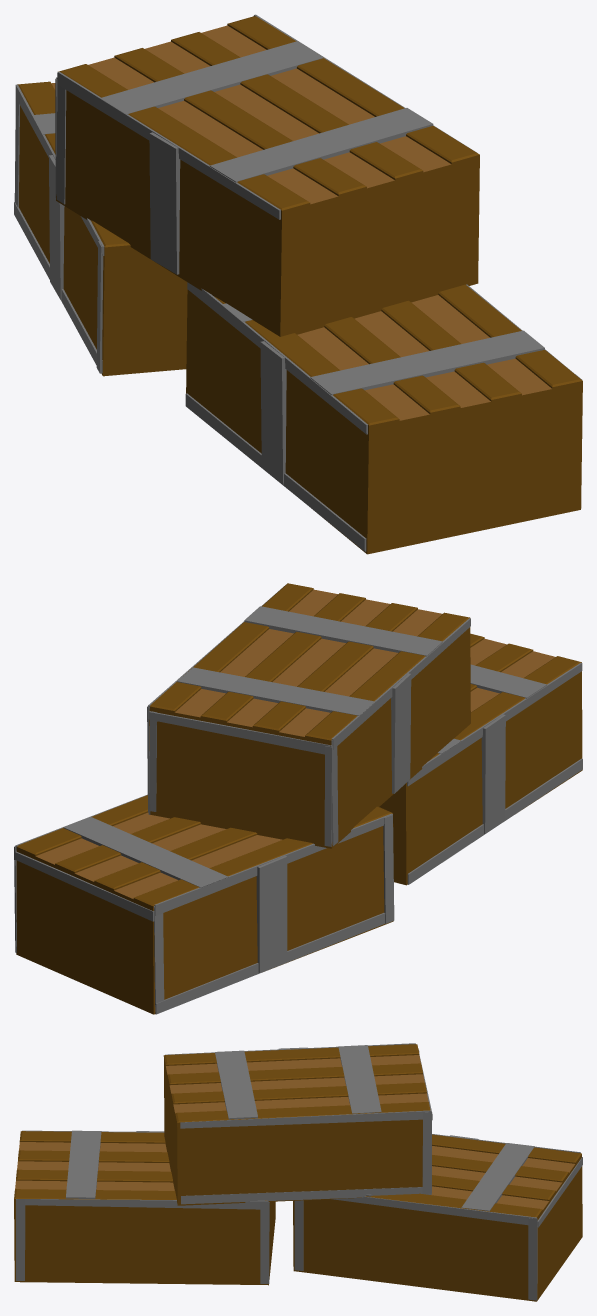
File: woodboxset.glb
The picture shows the model from 3 angles, top to bottom: view 1: azimuth 30°, elevation 25°; view 2: azimuth 150°, elevation 25°; view 3: azimuth 270°, elevation 25°; orthographic projection. The views are drawn at different scales.
Parts seen in each view (by area): view 1: Cube.606, Cube.569, Cube.568, Cube.571, Cube.604, Cube.605, Cube.588, Cube.587, Cube.603, Cube.573, Cube.572, Cube.550 (+4 smaller); view 2: Cube.606, Cube.568, Cube.569, Cube.604, Cube.605, Cube.567, Cube.550, Cube.587, Cube.564, Cube.588, Cube.565, Cube.573 (+10 smaller); view 3: Cube.606, Cube.568, Cube.569, Cube.567, Cube.604, Cube.597, Cube.605, Cube.571, Cube.596, Cube.579, Cube.558, Cube.561 (+5 smaller).
Part boxes in pixels (x1,y1,x2,y2): Cube.606: (56,16,479,336); Cube.569: (186,284,582,554); Cube.568: (17,81,187,376); Cube.571: (310,330,544,395); Cube.604: (209,108,433,182); Cube.605: (100,41,322,114); Cube.588: (149,132,180,274); Cube.587: (260,341,286,484); Cube.603: (57,71,280,219); Cube.573: (185,393,366,551); Cube.572: (187,282,367,434); Cube.550: (49,155,64,300); Cube.606: (149,583,470,848); Cube.568: (16,795,393,1014); Cube.569: (379,633,582,885); Cube.604: (244,606,442,656); Cube.605: (177,667,375,715); Cube.567: (63,817,228,887); Cube.550: (256,855,287,972); Cube.587: (481,714,505,833); Cube.564: (155,913,385,1014); Cube.588: (391,673,411,793); Cube.565: (154,813,392,915); Cube.573: (407,758,582,884); Cube.606: (163,1044,430,1205); Cube.568: (293,1134,582,1301); Cube.569: (14,1131,275,1285); Cube.567: (461,1143,534,1211); Cube.604: (215,1050,257,1119); Cube.597: (181,1187,431,1204); Cube.605: (338,1045,381,1113); Cube.571: (65,1130,101,1198); Cube.596: (180,1110,430,1128); Cube.579: (17,1199,268,1209); Cube.558: (331,1196,536,1225); Cube.561: (528,1218,537,1300).
Size of the model in its own units: 0.9214 by 0.7637 by 2.3.
